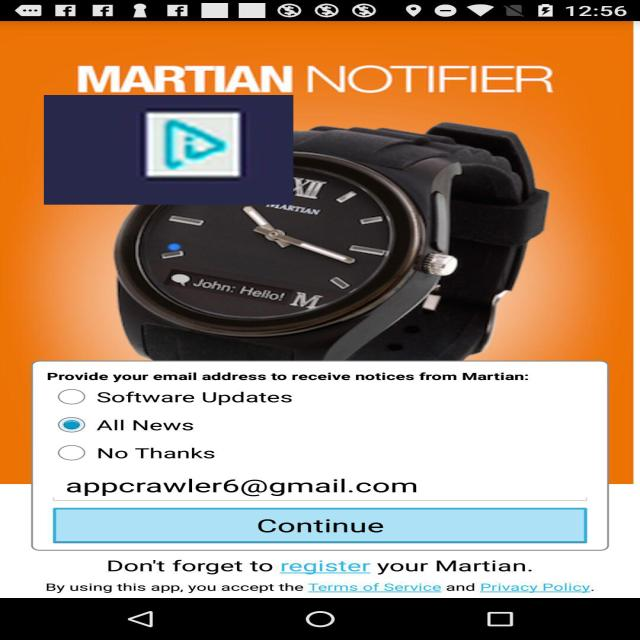sneaking: (44, 95, 293, 205)
